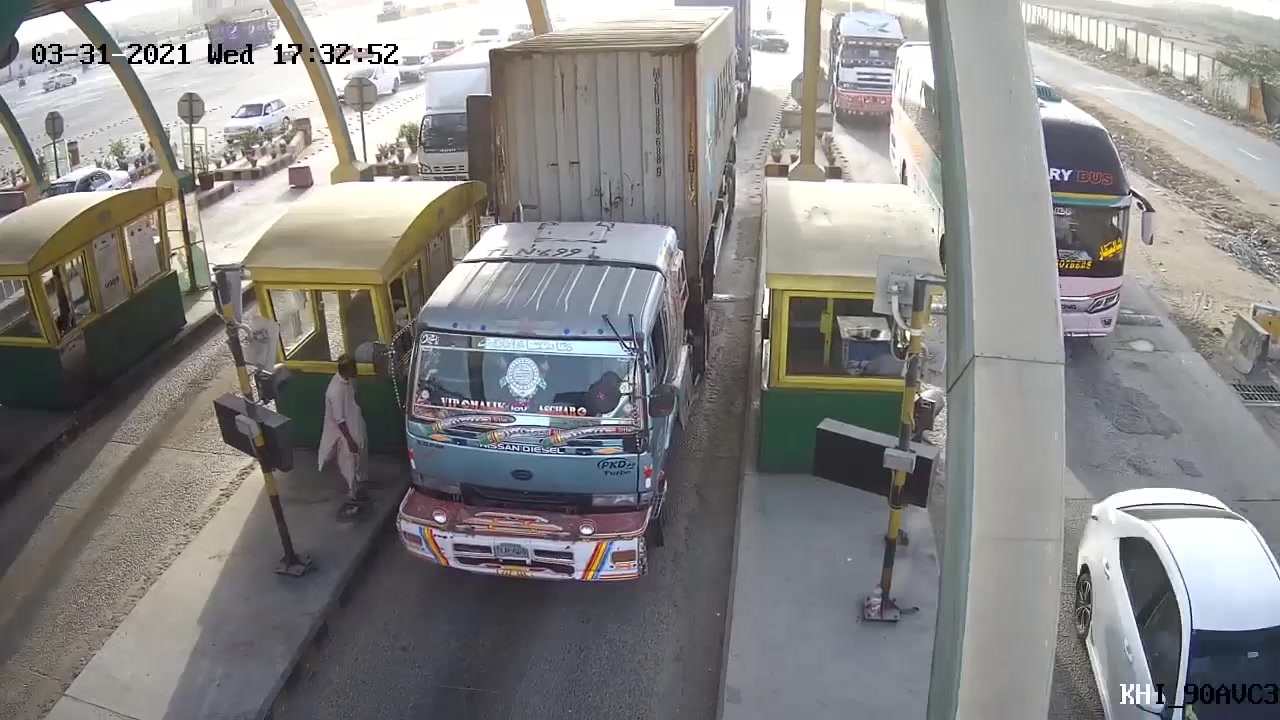F6: (382, 35, 708, 612)
